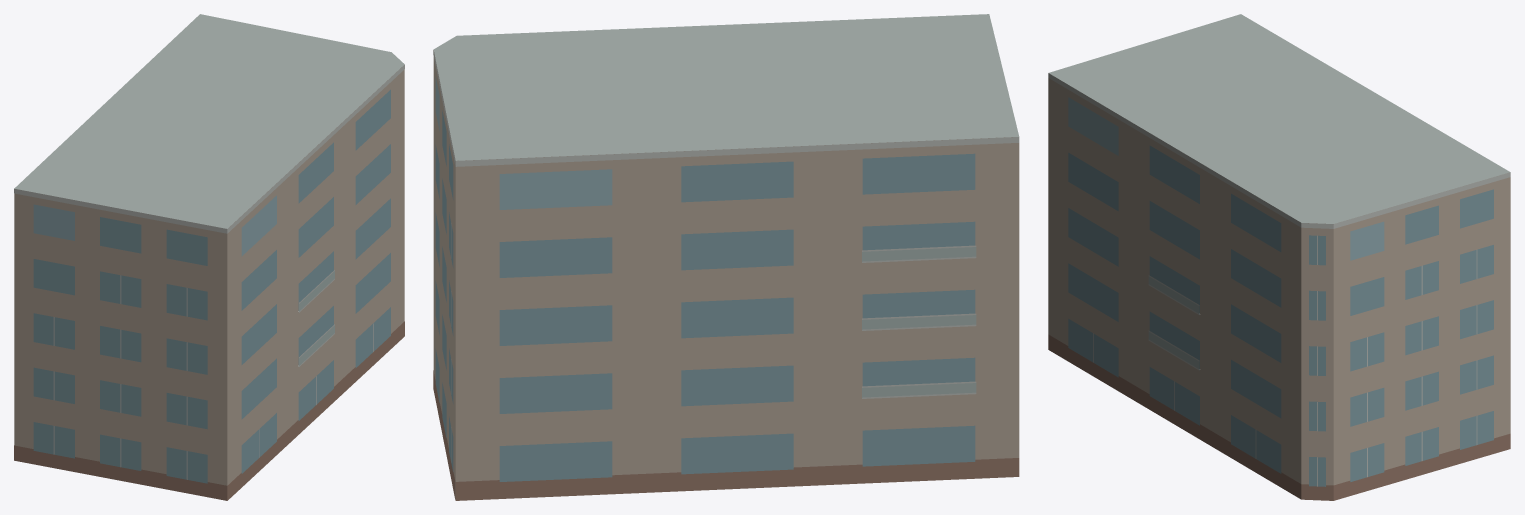
Rendered from survey-upis-32690982.glb.
3 renders of one model, left to right at view 1: azimuth 30°, elevation 25°; view 2: azimuth 150°, elevation 25°; view 3: azimuth 270°, elevation 25°, orthographic. The views are drawn at different scales.
Parts seen in each view (by area): view 1: survey-upis-32690982.tmp; view 2: survey-upis-32690982.tmp; view 3: survey-upis-32690982.tmp.
Boxes of the visible parts, bbox=[...] form: survey-upis-32690982.tmp: bbox=[14, 14, 404, 500]; survey-upis-32690982.tmp: bbox=[433, 14, 1019, 500]; survey-upis-32690982.tmp: bbox=[1048, 14, 1510, 500].
Bounding box in the file's own units: 22.47 × 13.8 × 20.89.
